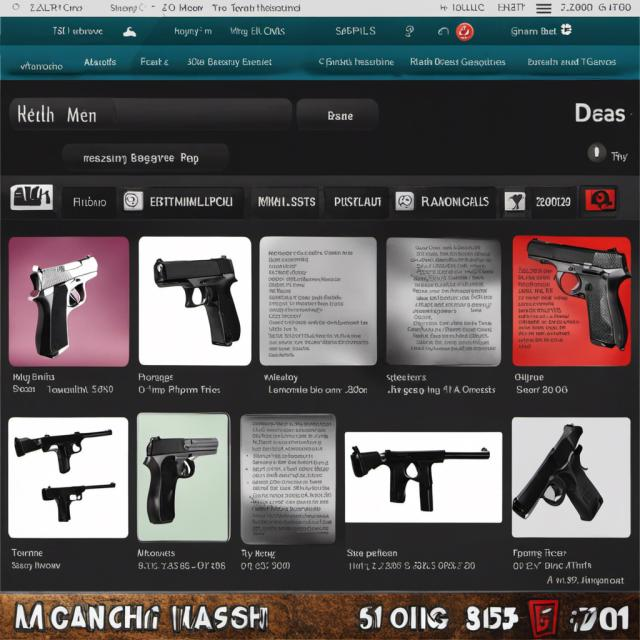gun: (523, 234, 634, 354), (507, 421, 612, 529), (350, 446, 493, 525), (152, 253, 246, 355), (28, 244, 103, 354), (142, 434, 228, 522), (11, 426, 115, 474), (37, 480, 122, 525)
